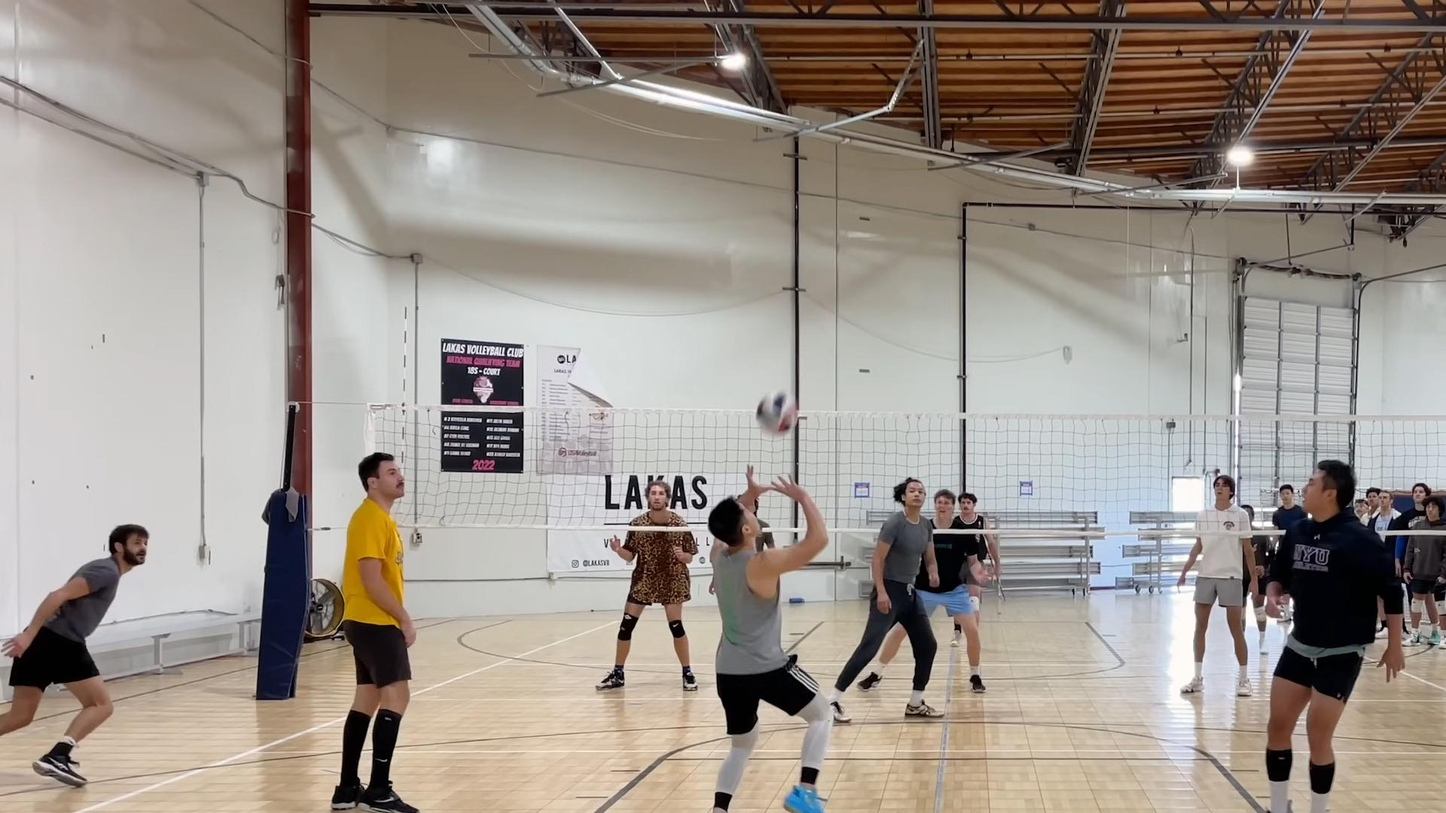alzata: (705, 466, 832, 813)
